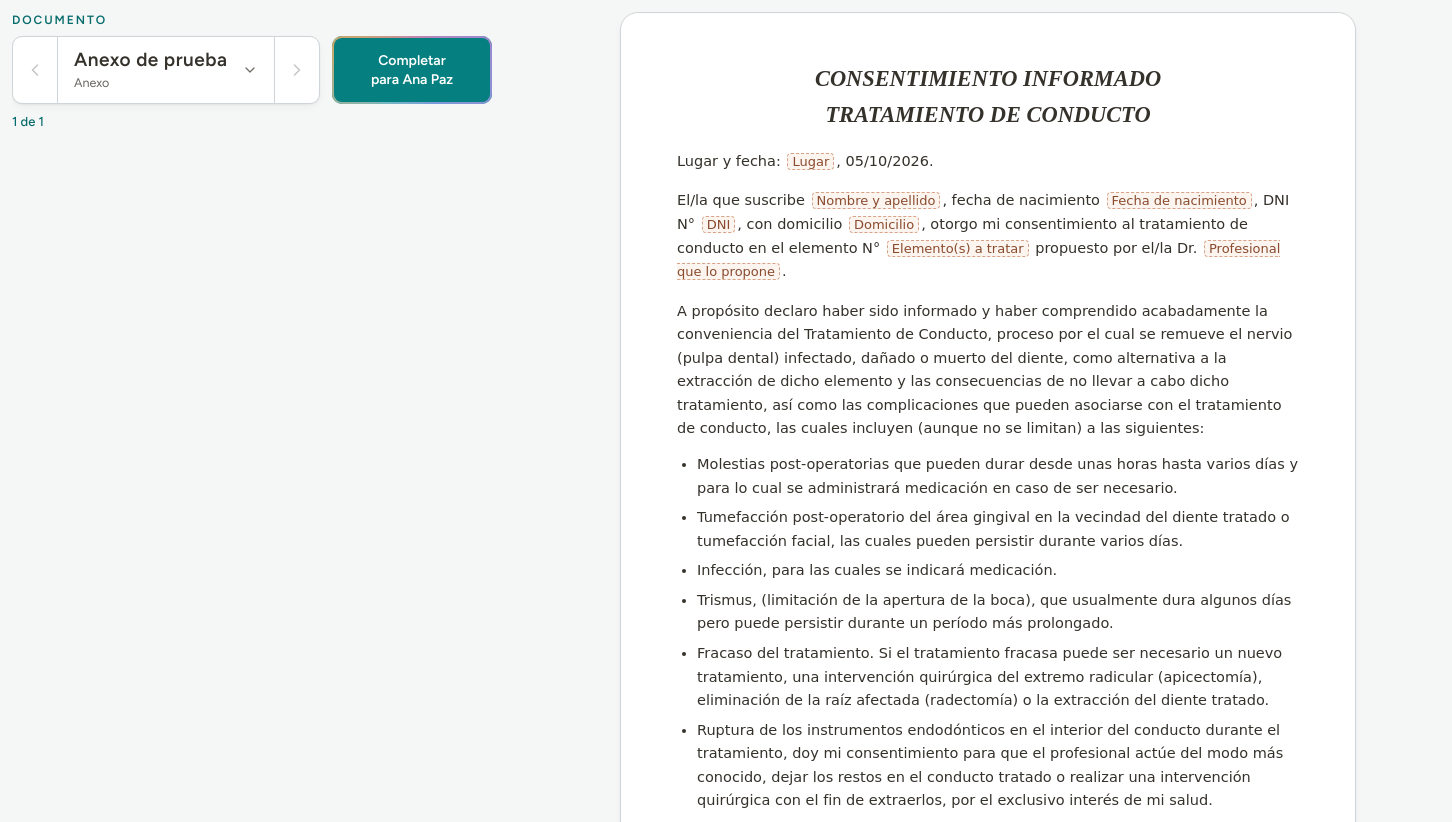
Test: ModuloDocumentos con un anexo › si no se pueden traer las historias, lo dice
Click the button "Completar para Ana Paz" at (412,70), box x1=332 y1=36 x2=492 y2=104
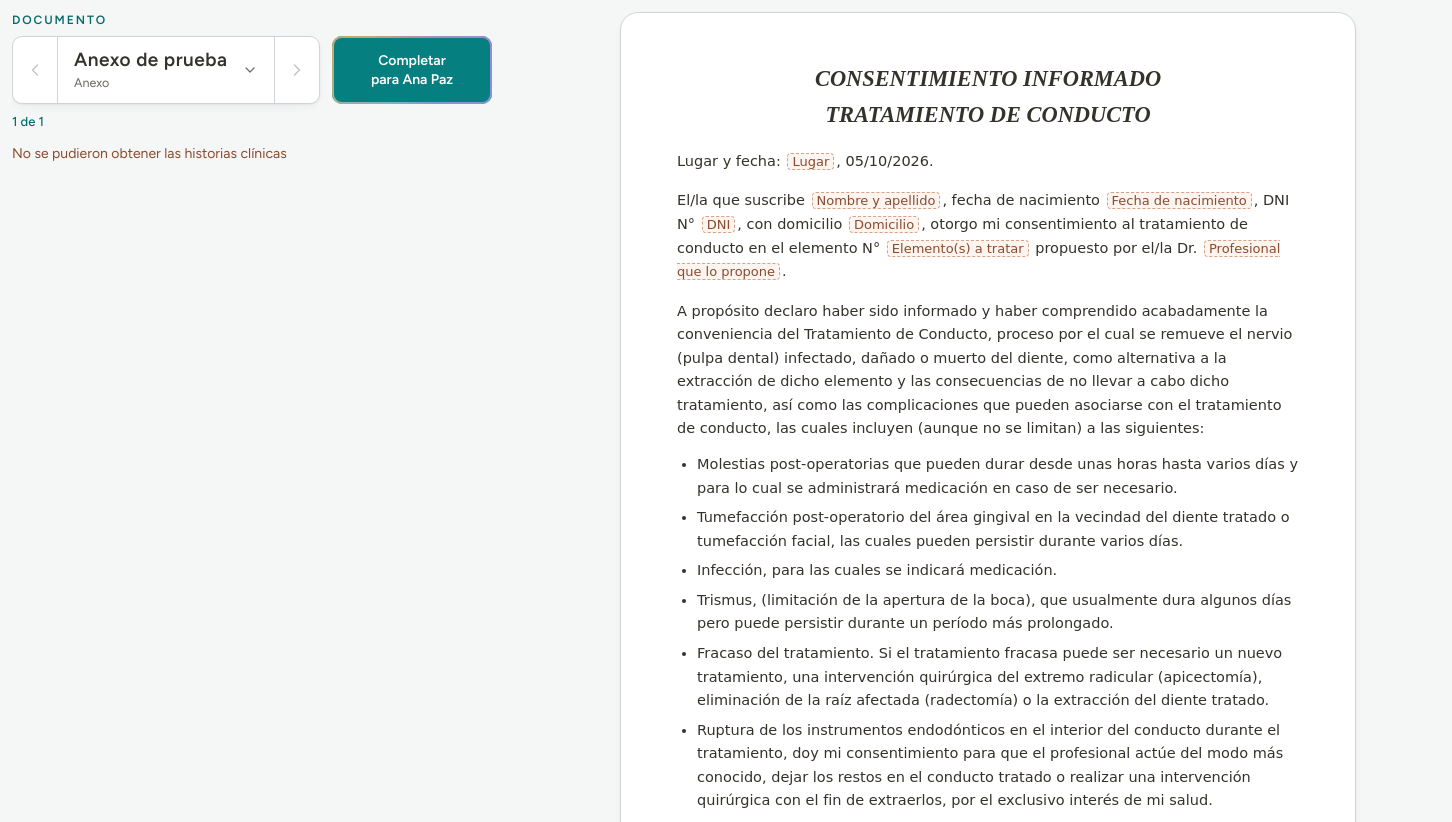
Check: the message reads "no se pudieron obtener las historias clínicas", box x1=12 y1=144 x2=287 y2=162
